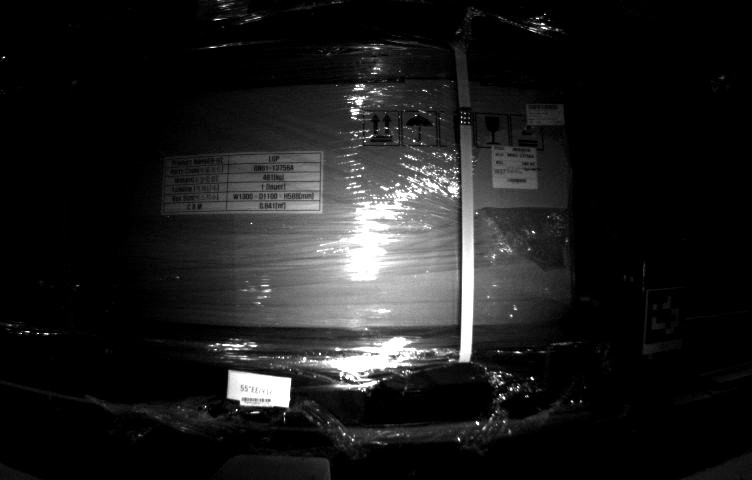True Barcode: (491, 145, 538, 190)
